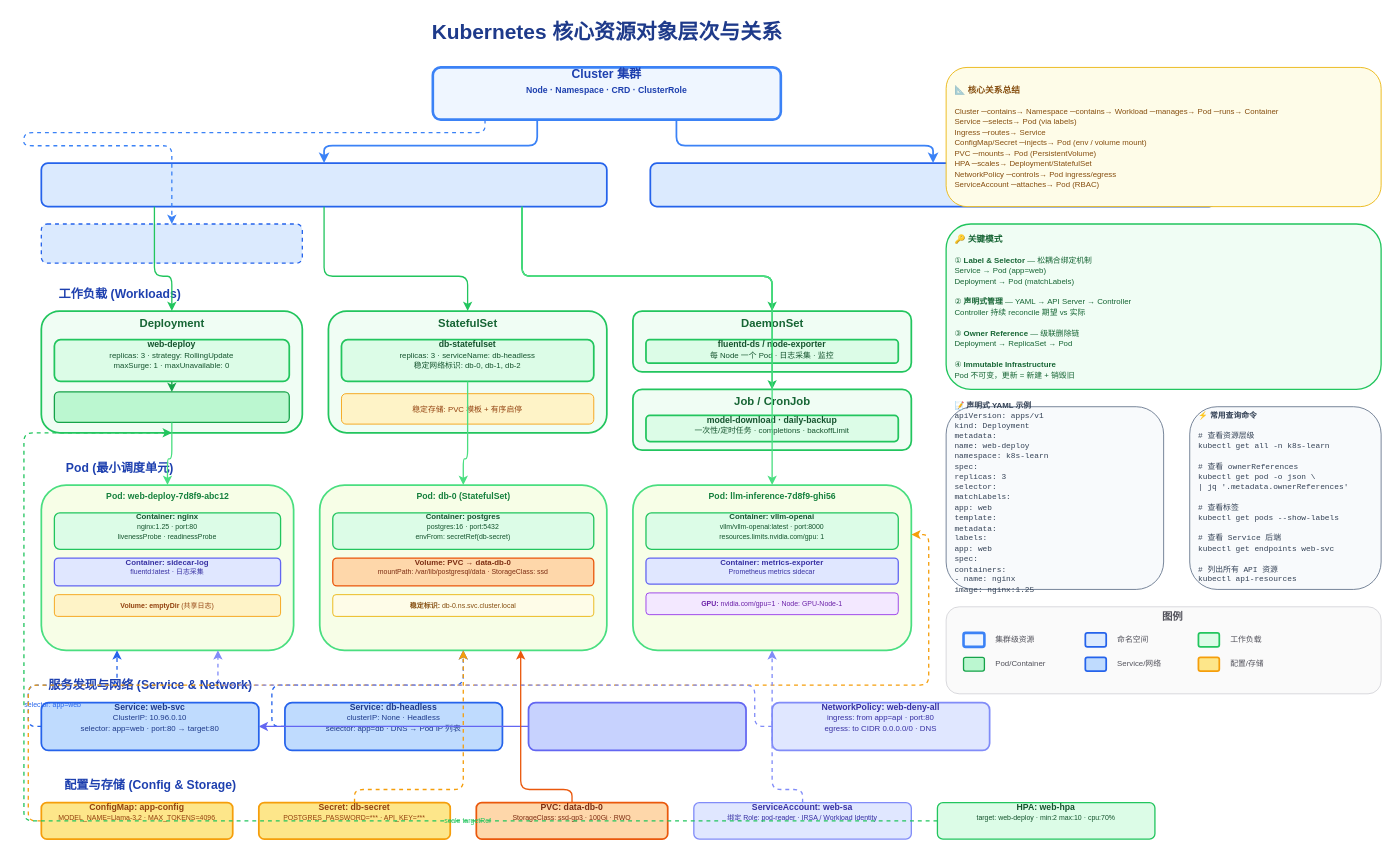
The diagram is 1396 pixels wide and 854 high, and some of its shapes have lost their labels. The centre of each missing label's shape, as x and y in pixels:
"Ingress: web-ingress host: app.example.com · TLS path: / → web-svc:80" goes at point 636,726.
"Namespace: k8s-learn Role · ResourceQuota · LimitRange · NetworkPolicy" goes at point 323,184.
"Namespace: kube-system 系统组件 (kube-proxy, CoreDNS, CNI)" goes at point 171,243.
"Namespace: production Role · ResourceQuota · LimitRange · NetworkPolicy" goes at point 932,184.
"ReplicaSet web-deploy-7d8f9abc · replicas: 3 · selector: app=web" goes at point 171,407.
